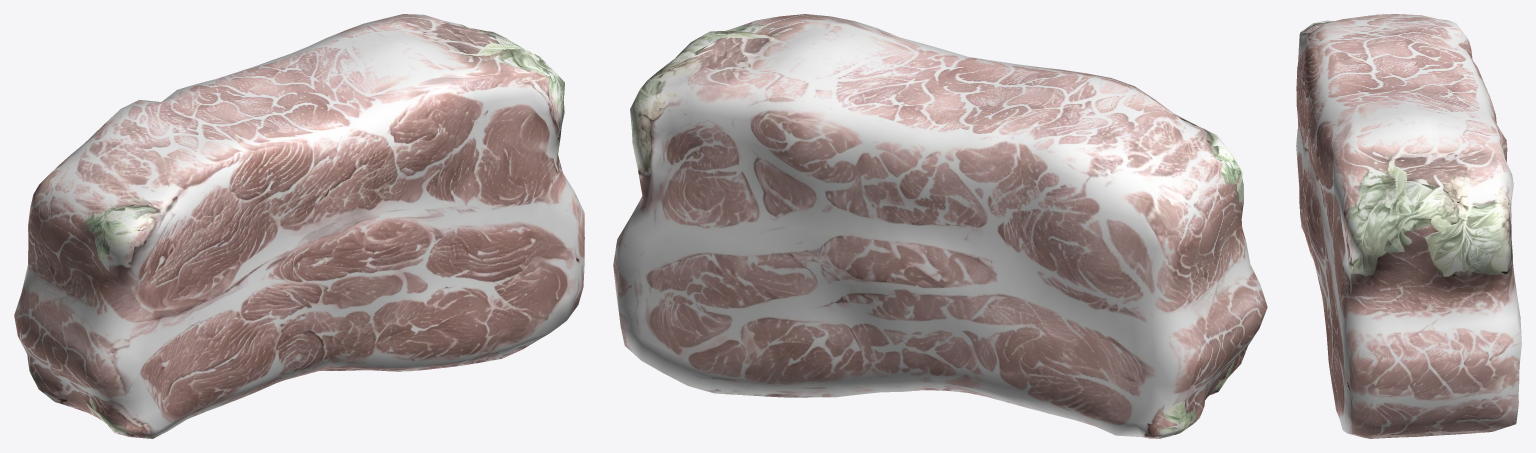
Rendered from animal_fat.glb.
3 renders of one model, left to right at view 1: azimuth 30°, elevation 25°; view 2: azimuth 150°, elevation 25°; view 3: azimuth 270°, elevation 25°, orthographic. The views are drawn at different scales.
Visible parts, largest first — view 1: animal_fat; view 2: animal_fat; view 3: animal_fat.
Boxes of the visible parts, <box> form: animal_fat: <box>14,14,584,438</box>; animal_fat: <box>613,14,1267,438</box>; animal_fat: <box>1296,14,1521,438</box>.
Bounding box in the file's own units: 0.13 × 0.0717 × 0.0527.
1 material, 1 textured.
